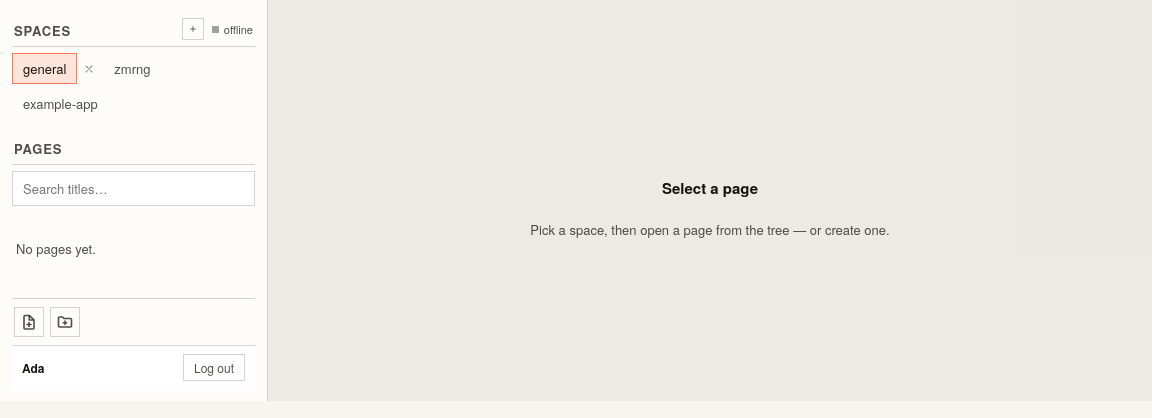
Test: <KbView> spaces — create/delete affordances › deletes the selected space after a confirmation and drops it from the switcher
Expected: the button "general" is shown, [12,53,77,84]
Step 1. Click the button named "Delete the general space" → coordinates (89, 68), box [79,58,99,78]
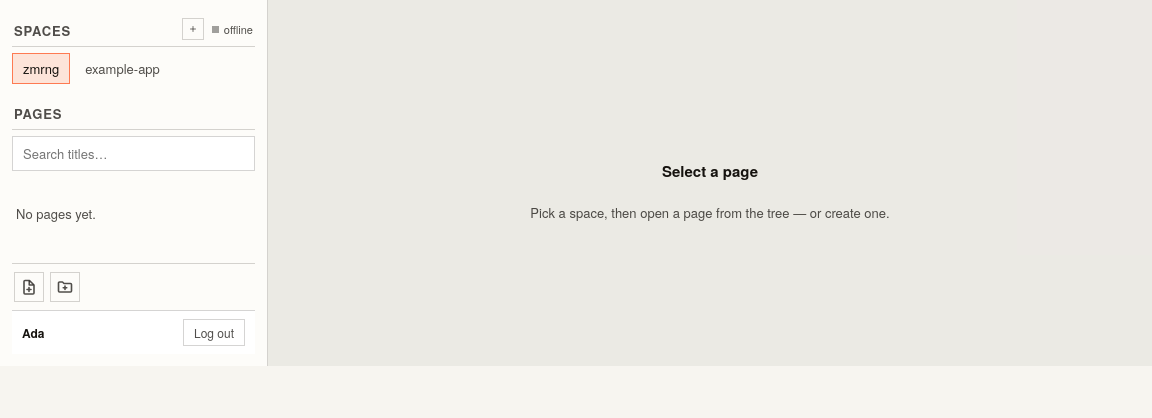
Expected: the button "general" is gone
